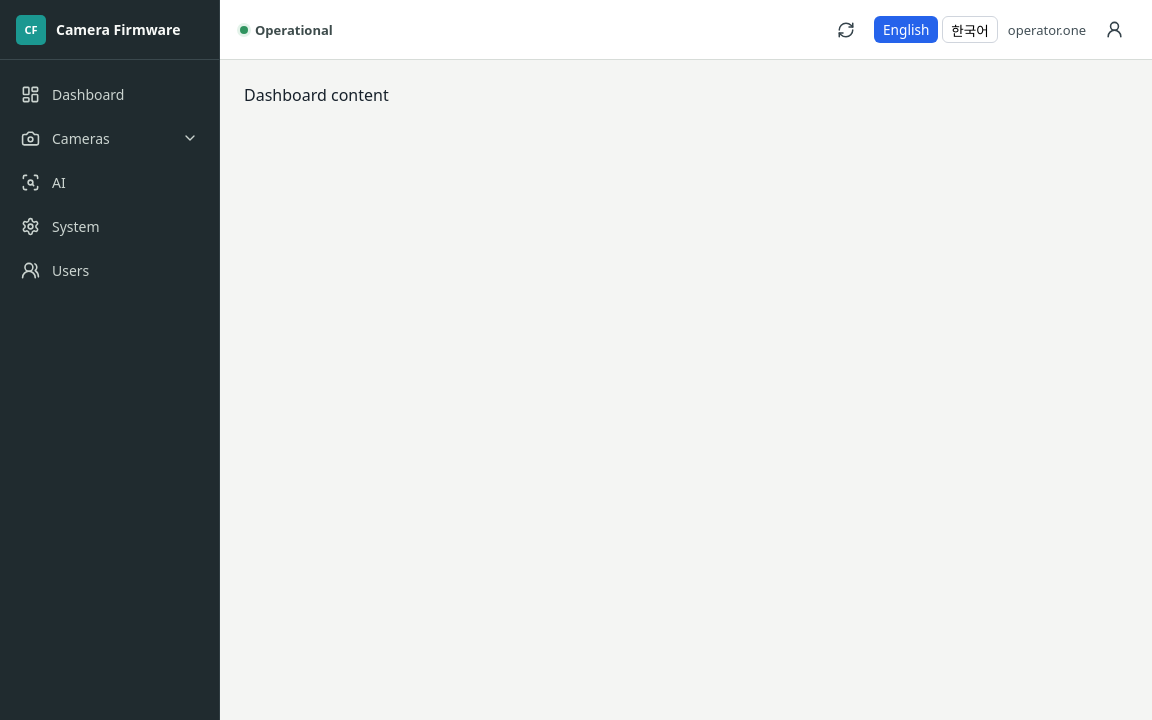
AppShell › treats the user control as a disclosure and restores focus on Escape
This screenshot has width=1152, height=720.
Step 1. Click the button named "Open user menu" → (1114,30), box [1096, 12, 1132, 48]
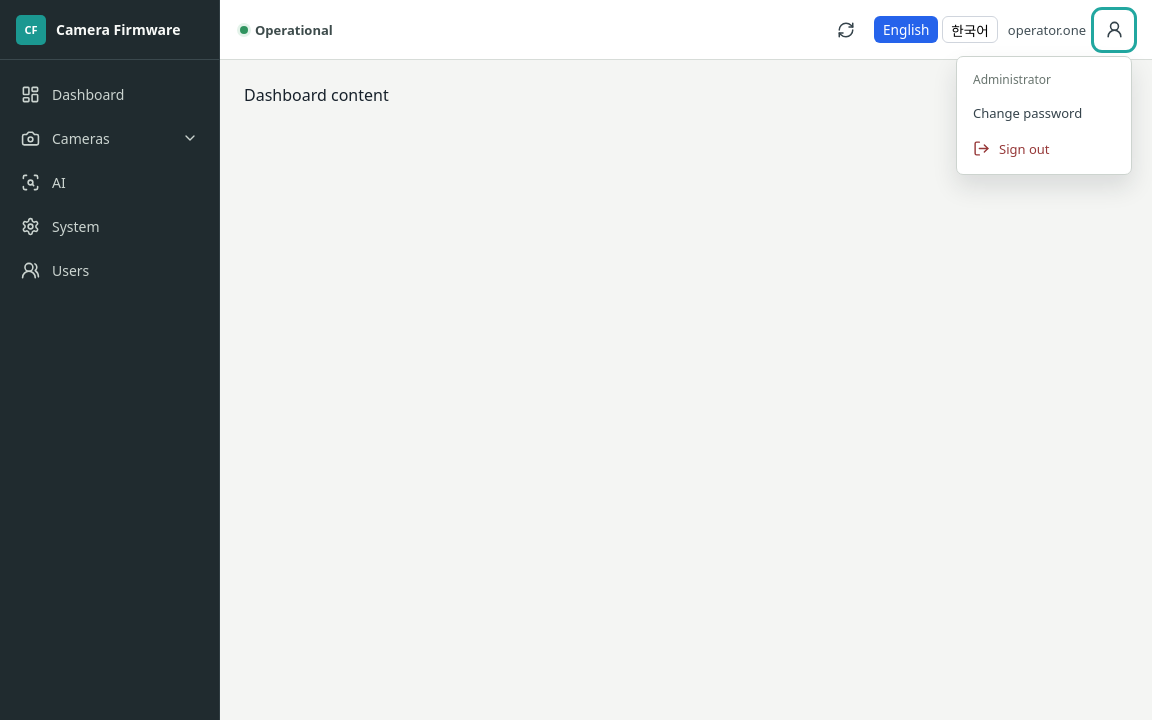
Now the button "Sign out" is shown, box [964, 130, 1124, 166]
Step 2. Press Escape
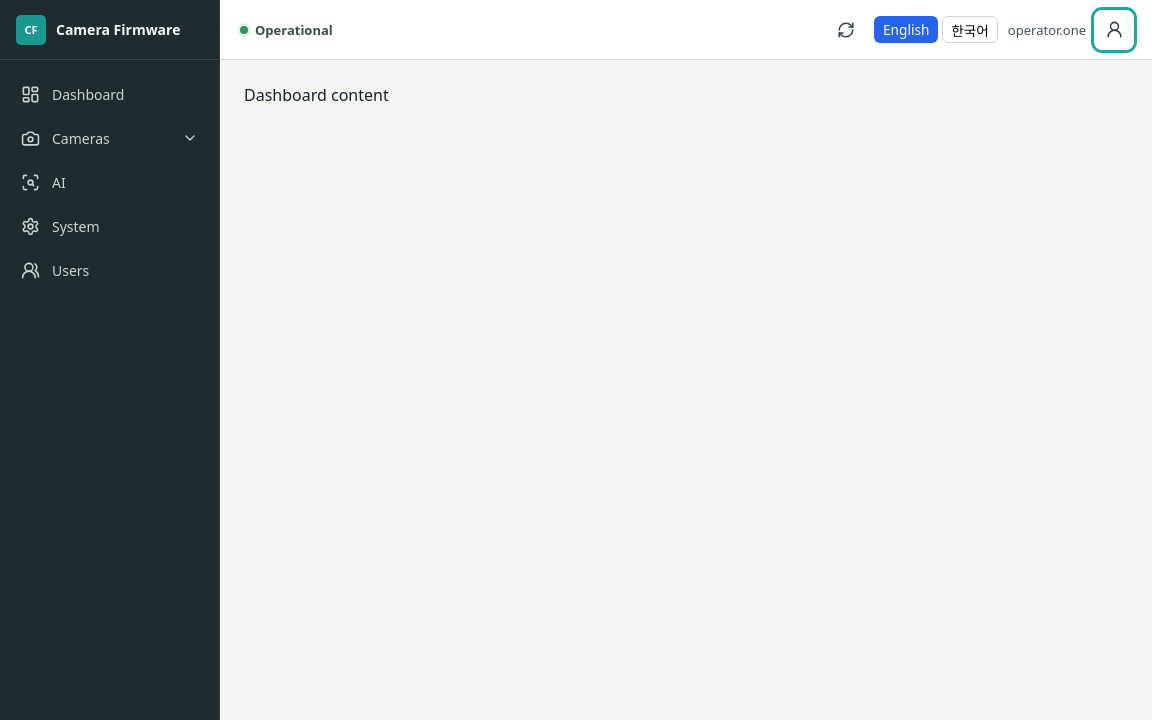
Now the element with id "user-disclosure" is gone
